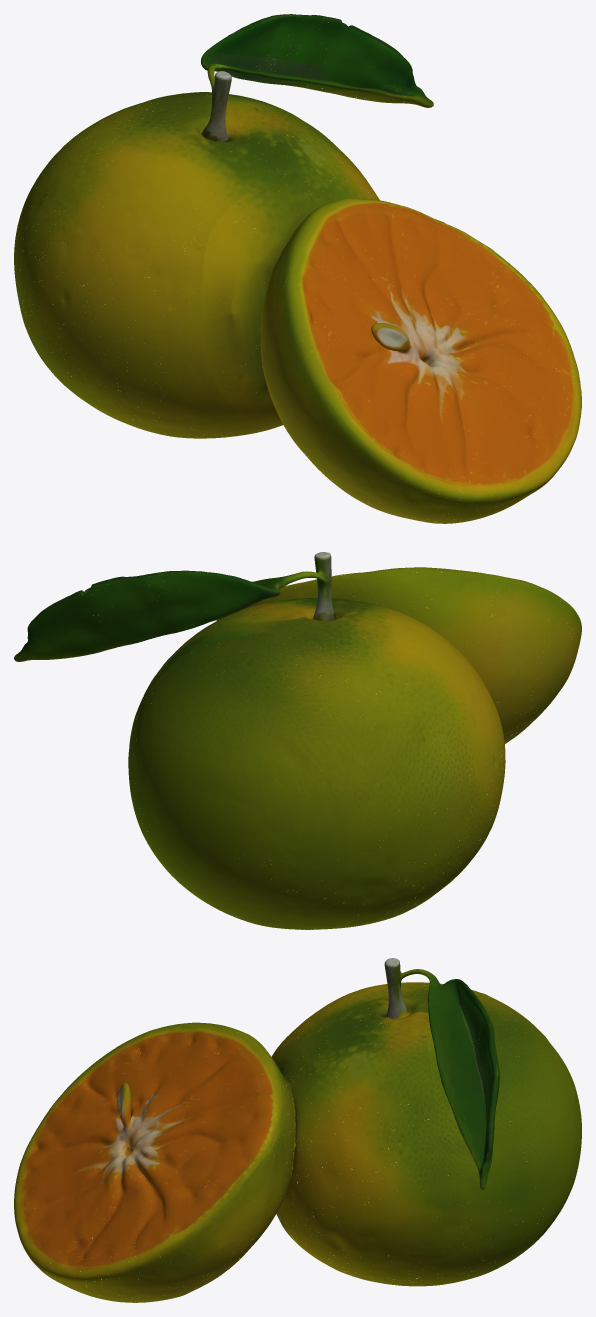
File: orange-half.glb
3 views of the same model, one above another, from view 1: azimuth 30°, elevation 25°; view 2: azimuth 150°, elevation 25°; view 3: azimuth 270°, elevation 25° (orthographic). The views are drawn at different scales.
Parts seen in each view (by area): view 1: tripo_node_f927e57a-28ce-45f0-bccc-89429cfbbdb1_0; view 2: tripo_node_f927e57a-28ce-45f0-bccc-89429cfbbdb1_0; view 3: tripo_node_f927e57a-28ce-45f0-bccc-89429cfbbdb1_0.
Boxes of the visible parts, x1,y1,x2,y2 form: tripo_node_f927e57a-28ce-45f0-bccc-89429cfbbdb1_0: (14, 14, 581, 523); tripo_node_f927e57a-28ce-45f0-bccc-89429cfbbdb1_0: (14, 552, 581, 929); tripo_node_f927e57a-28ce-45f0-bccc-89429cfbbdb1_0: (14, 958, 581, 1302).
Bounding box in the file's own units: 0.7736 × 0.5769 × 0.9999.
1 material, 1 textured.
